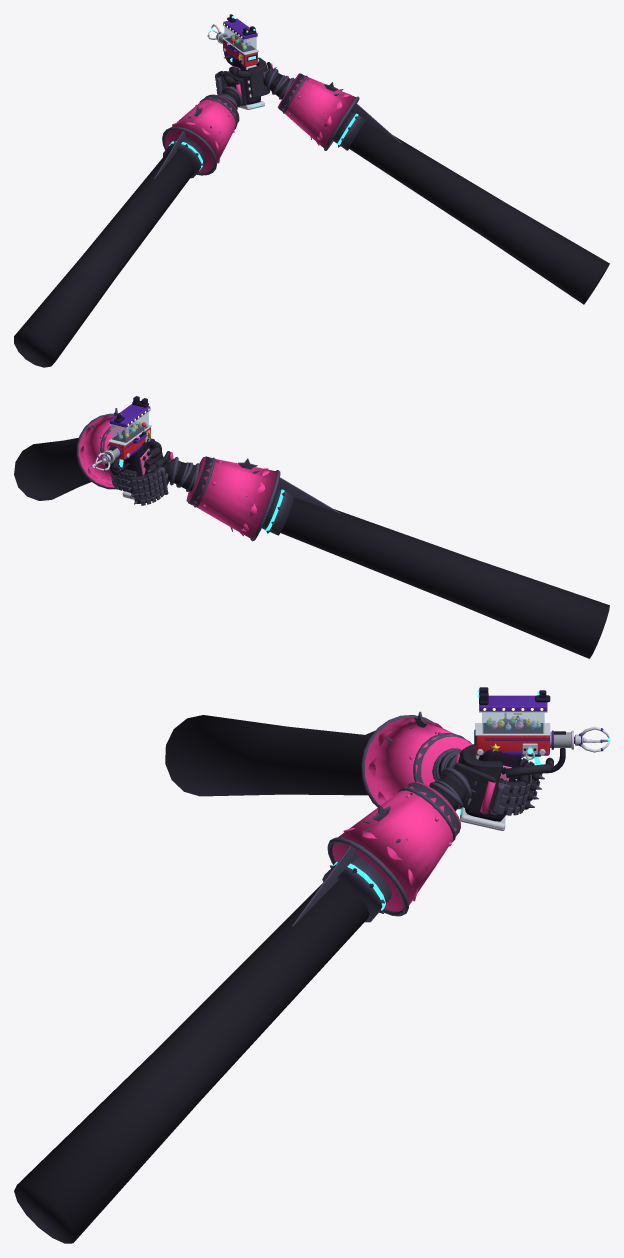
File: claw_grabber.glb
3 views of the same model, one above another, from view 1: azimuth 30°, elevation 25°; view 2: azimuth 150°, elevation 25°; view 3: azimuth 270°, elevation 25° (orthographic). The views are drawn at different scales.
Visible parts, largest first — view 1: ArmR, ArmL, ArmRKitBell, ArmLKitBell, Shell; view 2: ArmL, ArmLKitBell, ArmR, Shell, ArmRKitBell, ArmLKitGauntlet, Glass, ArmLKitFins, ArmLKitWraps, ArmRKitGauntlet; view 3: ArmR, ArmL, ArmRKitBell, Shell, ArmLKitBell, Glass, ArmRKitGauntlet, ArmRKitMitten, ArmRKitFins, ArmRKitWraps.
Boxes of the visible parts, bbox=[...] form: ArmR: bbox=[226, 54, 609, 304]; ArmL: bbox=[14, 71, 246, 367]; ArmRKitBell: bbox=[277, 73, 359, 150]; ArmLKitBell: bbox=[162, 94, 239, 175]; Shell: bbox=[217, 18, 264, 109]; ArmL: bbox=[128, 452, 609, 658]; ArmLKitBell: bbox=[186, 457, 280, 541]; ArmR: bbox=[14, 437, 161, 500]; Shell: bbox=[103, 404, 151, 499]; ArmRKitBell: bbox=[76, 408, 124, 489]; ArmLKitGauntlet: bbox=[132, 456, 221, 507]; Glass: bbox=[111, 412, 148, 442]; ArmLKitFins: bbox=[165, 470, 341, 513]; ArmLKitWraps: bbox=[160, 457, 199, 494]; ArmRKitGauntlet: bbox=[100, 426, 132, 492]; ArmR: bbox=[14, 744, 554, 1243]; ArmL: bbox=[165, 715, 540, 809]; ArmRKitBell: bbox=[327, 782, 460, 916]; Shell: bbox=[459, 695, 573, 830]; ArmLKitBell: bbox=[361, 711, 471, 807]; Glass: bbox=[482, 712, 544, 733]; ArmRKitGauntlet: bbox=[405, 763, 531, 846]; ArmRKitMitten: bbox=[454, 762, 495, 815]; ArmRKitFins: bbox=[292, 778, 475, 926]; ArmRKitWraps: bbox=[429, 767, 504, 814].
Bounding box in the file's own units: 2.29 × 0.9292 × 1.31.
